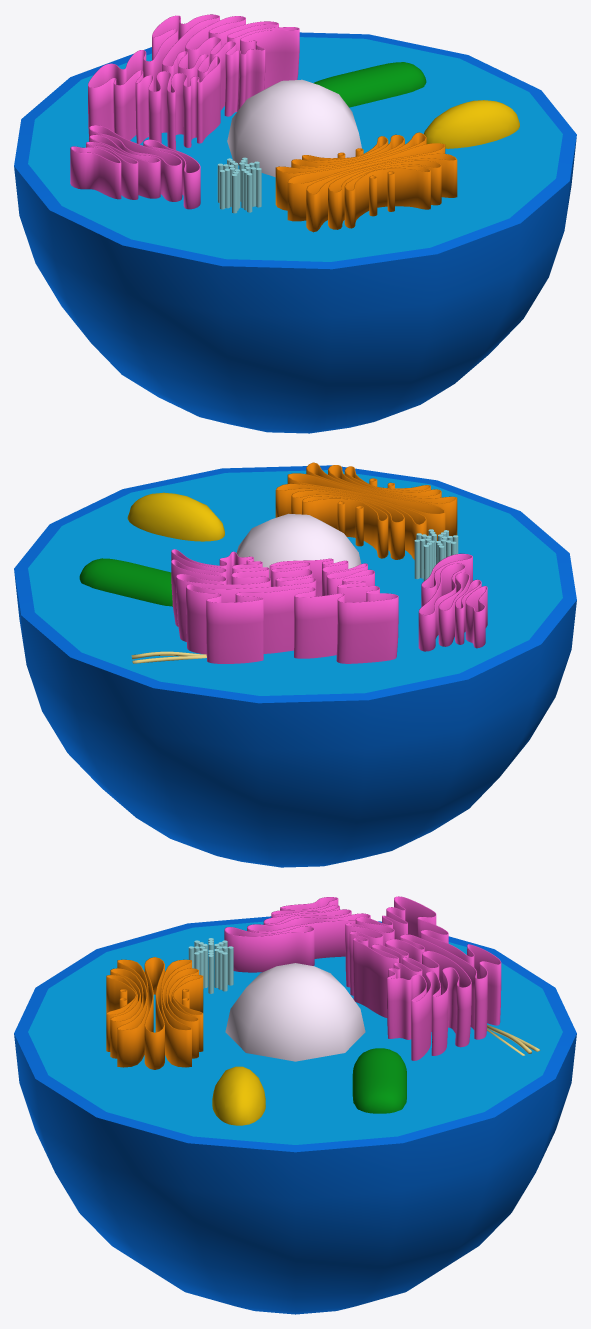
File: cell_animal.fbx
The picture shows the model from 3 angles, top to bottom: view 1: azimuth 30°, elevation 25°; view 2: azimuth 150°, elevation 25°; view 3: azimuth 270°, elevation 25°; orthographic projection.
Parts seen in each view (by area): view 1: Membrane, Membrane.001, Rough EPS, Goldgi Apparatus, Core, Smooth EPS, Mitochondria, Cloroplast, Centrioles; view 2: Membrane, Membrane.001, Rough EPS, Goldgi Apparatus, Smooth EPS, Core, Mitochondria, Cloroplast, Centrioles, microtubes; view 3: Membrane, Membrane.001, Rough EPS, Core, Goldgi Apparatus, Smooth EPS, Cloroplast, Mitochondria, Centrioles.
Part boxes in pixels (bbox=[...]): Membrane: bbox=[14, 32, 576, 433]; Membrane.001: bbox=[28, 37, 562, 261]; Rough EPS: bbox=[88, 14, 299, 149]; Goldgi Apparatus: bbox=[275, 132, 457, 232]; Core: bbox=[227, 79, 361, 177]; Smooth EPS: bbox=[70, 125, 200, 209]; Mitochondria: bbox=[424, 100, 519, 148]; Cloroplast: bbox=[313, 62, 426, 107]; Centrioles: bbox=[217, 157, 261, 213]; Membrane: bbox=[14, 465, 576, 867]; Membrane.001: bbox=[28, 470, 562, 695]; Rough EPS: bbox=[171, 549, 398, 663]; Goldgi Apparatus: bbox=[275, 462, 457, 559]; Smooth EPS: bbox=[418, 553, 487, 651]; Core: bbox=[236, 513, 361, 577]; Mitochondria: bbox=[127, 492, 224, 541]; Cloroplast: bbox=[79, 558, 172, 606]; Centrioles: bbox=[414, 529, 458, 581]; microtubes: bbox=[131, 651, 206, 663]; Membrane: bbox=[14, 916, 576, 1314]; Membrane.001: bbox=[28, 921, 562, 1144]; Rough EPS: bbox=[345, 896, 501, 1060]; Core: bbox=[225, 963, 365, 1061]; Goldgi Apparatus: bbox=[106, 957, 203, 1069]; Smooth EPS: bbox=[224, 897, 370, 972]; Cloroplast: bbox=[352, 1048, 406, 1113]; Mitochondria: bbox=[212, 1066, 265, 1125]; Centrioles: bbox=[188, 938, 233, 993].
Size of the model in its own units: 200 by 125 by 200.
